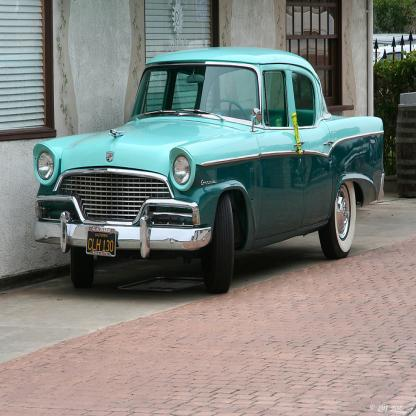Car: (28, 50, 384, 297), (374, 46, 416, 95), (373, 35, 416, 48)
